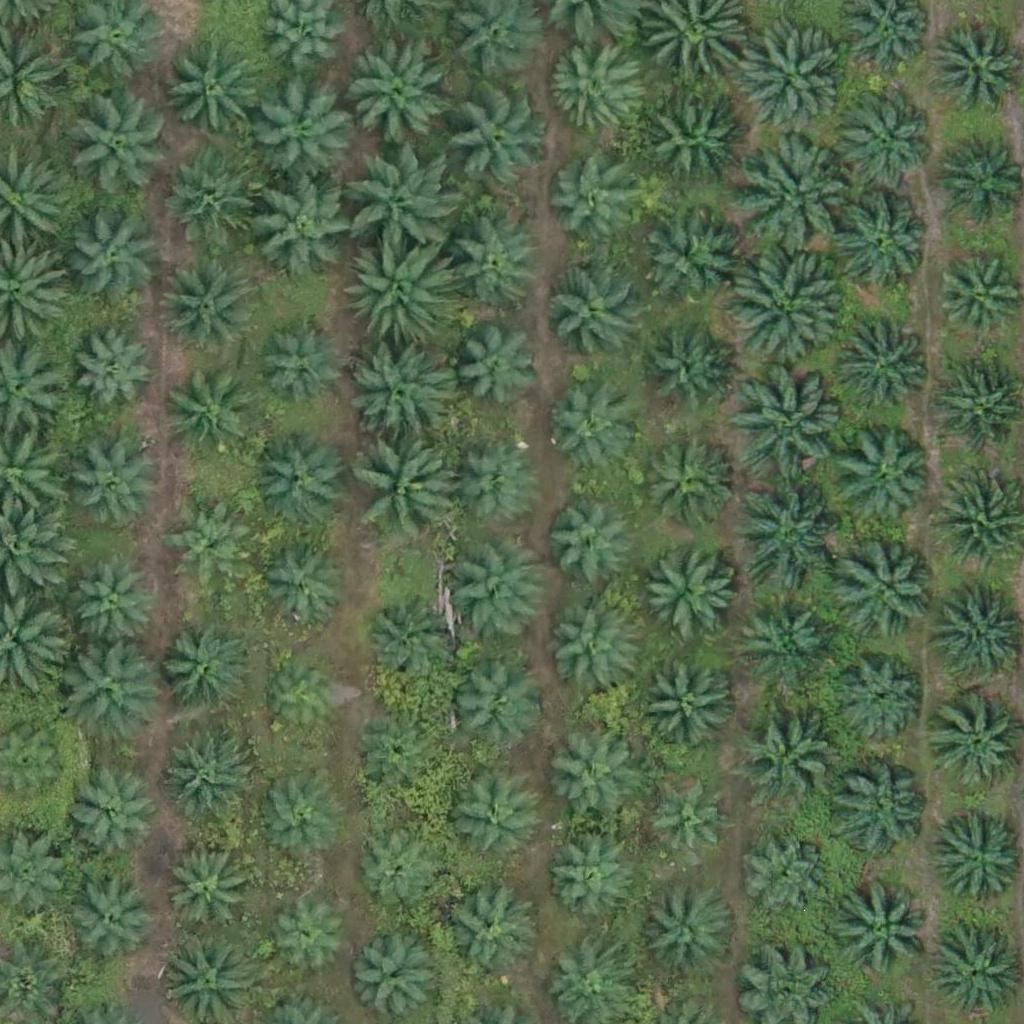Kelapa_Sawit: (64, 87, 177, 201), (727, 251, 840, 364), (740, 135, 853, 248), (731, 21, 844, 134), (345, 144, 458, 257), (728, 478, 840, 591), (734, 367, 846, 480), (628, 203, 740, 316), (342, 237, 454, 350), (64, 640, 164, 741), (357, 442, 457, 543), (364, 590, 464, 691), (437, 886, 537, 987), (542, 723, 642, 824), (637, 657, 737, 758), (639, 538, 739, 639), (635, 429, 735, 530), (734, 590, 834, 691), (737, 701, 837, 802), (831, 424, 931, 525), (837, 878, 937, 979), (831, 189, 931, 290), (829, 315, 929, 416), (649, 95, 749, 196), (541, 263, 641, 364), (547, 152, 647, 253), (447, 91, 547, 192), (444, 213, 544, 314), (346, 39, 446, 140), (253, 83, 353, 184), (164, 40, 264, 141), (247, 433, 347, 533), (254, 537, 354, 637), (447, 544, 547, 644), (836, 543, 936, 643), (827, 760, 927, 860), (837, 91, 937, 191), (348, 345, 448, 445), (258, 182, 358, 282), (157, 257, 257, 357), (164, 149, 264, 249), (163, 629, 251, 718), (73, 564, 161, 652), (65, 775, 153, 863), (69, 876, 157, 964), (166, 372, 254, 460), (166, 499, 254, 587), (163, 735, 251, 823), (359, 714, 447, 802), (449, 441, 537, 529), (450, 662, 538, 750), (446, 774, 534, 862), (547, 499, 635, 587), (547, 606, 635, 694), (544, 839, 632, 927), (646, 883, 734, 971), (741, 833, 829, 921), (934, 257, 1022, 345), (642, 324, 730, 412), (549, 47, 637, 135), (253, 325, 341, 413), (640, 776, 727, 865), (70, 443, 157, 531), (166, 849, 253, 937), (268, 891, 355, 979), (256, 768, 343, 856), (355, 831, 442, 919), (836, 654, 923, 742), (540, 388, 627, 476), (451, 320, 538, 408), (71, 215, 158, 303), (72, 323, 159, 411), (266, 662, 341, 738)
